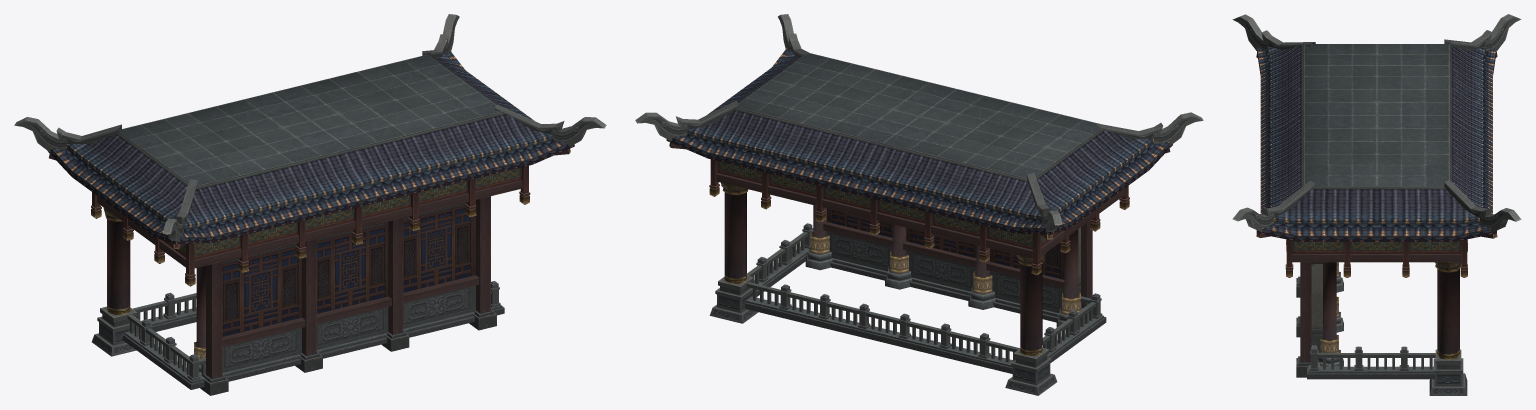
File: que_lou_003.FBX
3 views of the same model, side by side, from view 1: azimuth 30°, elevation 25°; view 2: azimuth 150°, elevation 25°; view 3: azimuth 270°, elevation 25° (orthographic). The views are drawn at different scales.
Parts seen in each view (by area): view 1: que_lou_003_a01; view 2: que_lou_003_a01; view 3: que_lou_003_a01.
Part boxes in pixels (x1,y1,x2,y2): que_lou_003_a01: [14, 14, 606, 395]; que_lou_003_a01: [635, 14, 1203, 395]; que_lou_003_a01: [1232, 14, 1521, 395].
Bounding box in the file's own units: 2977 × 1400 × 1776.
Materials: 1 (1 with a texture image).
